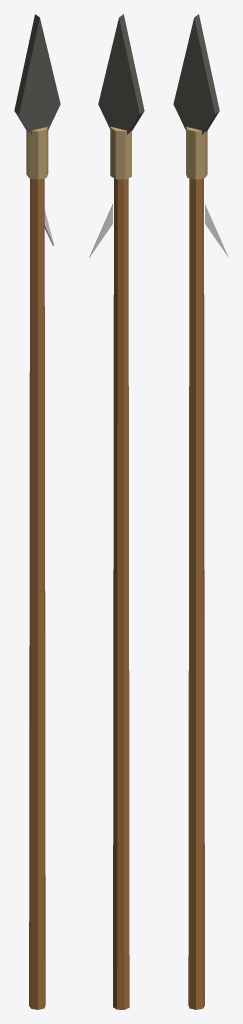
Rendered from SM_Spear.glb.
3 renders of one model, left to right at view 1: azimuth 30°, elevation 25°; view 2: azimuth 150°, elevation 25°; view 3: azimuth 330°, elevation 25°, orthographic.
Visible parts, largest first — view 1: SM_Spear; view 2: SM_Spear; view 3: SM_Spear.
Part boxes in pixels (box(x1,y1,x2,y2)): SM_Spear: box(14, 14, 60, 1009); SM_Spear: box(89, 14, 144, 1009); SM_Spear: box(173, 14, 228, 1009).
Size of the model in its own units: 0.098 by 2.05 by 0.0507.
Materials: 1 (1 with a texture image).
